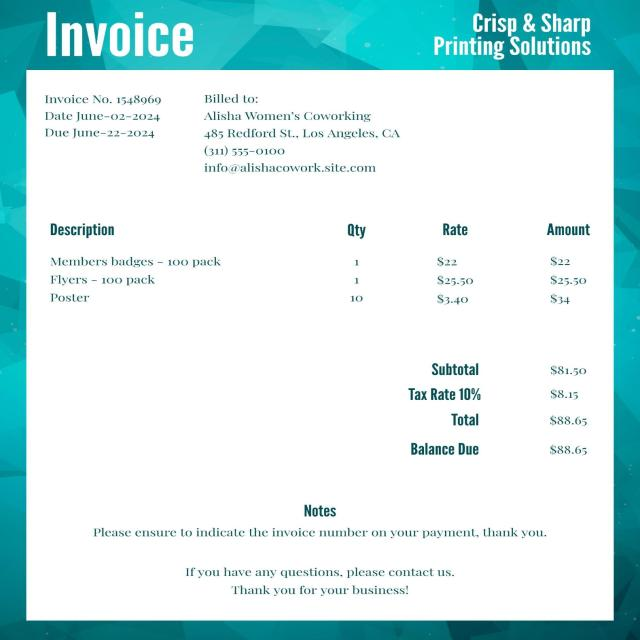paragraph: (75, 496, 558, 548), (401, 354, 603, 476), (197, 90, 409, 180), (161, 554, 464, 613), (418, 8, 610, 64), (33, 10, 204, 64), (33, 86, 177, 148)
table: (32, 204, 600, 330)
